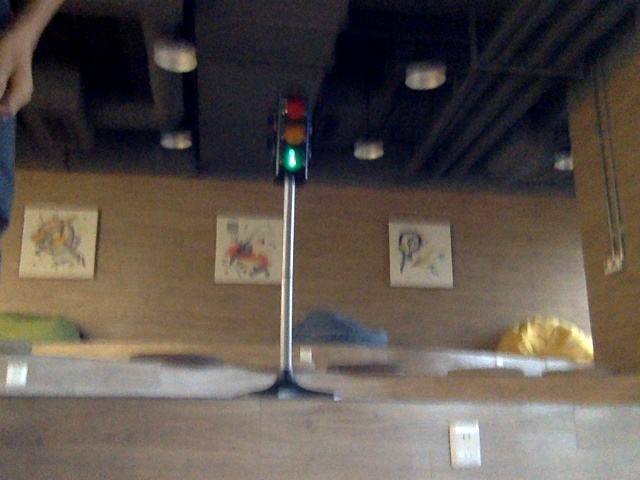green: (277, 98, 309, 176)
